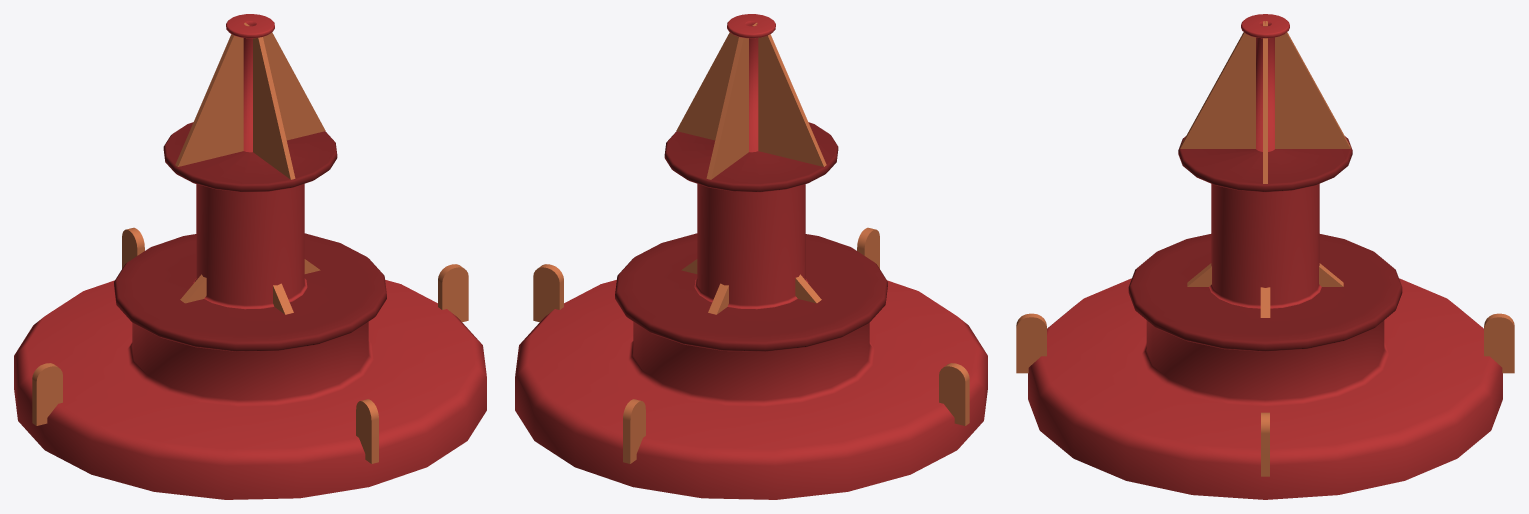
Rendered from mBoya01.fbx.
3 views of the same model, side by side, from view 1: azimuth 30°, elevation 25°; view 2: azimuth 150°, elevation 25°; view 3: azimuth 270°, elevation 25° (orthographic).
Visible parts, largest first — view 1: mBoya01; view 2: mBoya01; view 3: mBoya01.
Boxes of the visible parts, box(x1,y1,x2,y2) form: mBoya01: box(14, 14, 486, 499); mBoya01: box(515, 14, 987, 499); mBoya01: box(1016, 14, 1514, 499).
Size of the model in its own units: 73.5 by 61.15 by 73.5.
